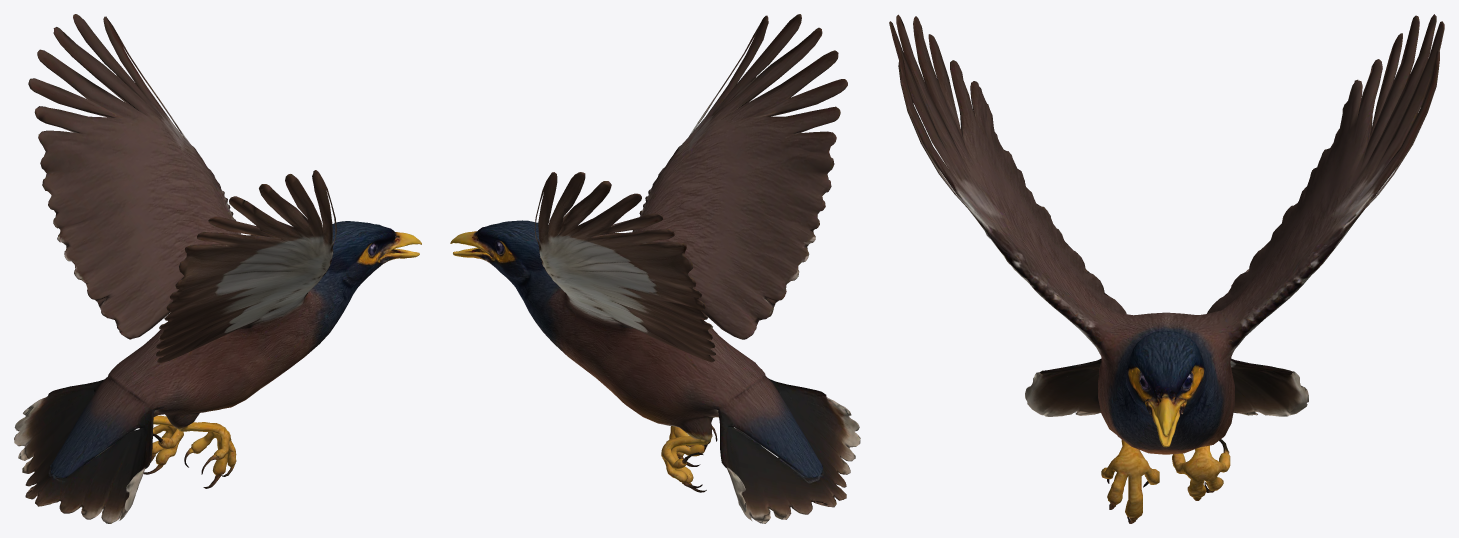
File: animal-myna-001.glb
3 views of the same model, side by side, from view 1: azimuth 30°, elevation 25°; view 2: azimuth 150°, elevation 25°; view 3: azimuth 270°, elevation 25° (orthographic). The views are drawn at different scales.
Parts seen in each view (by area): view 1: Myna Bird Mesh; view 2: Myna Bird Mesh; view 3: Myna Bird Mesh.
Part boxes in pixels (x1,y1,x2,y2): Myna Bird Mesh: (14, 14, 421, 523); Myna Bird Mesh: (450, 14, 860, 523); Myna Bird Mesh: (889, 14, 1444, 523).
Bounding box in the file's own units: 0.3 × 0.2847 × 0.2906.
1 material, 1 textured.
